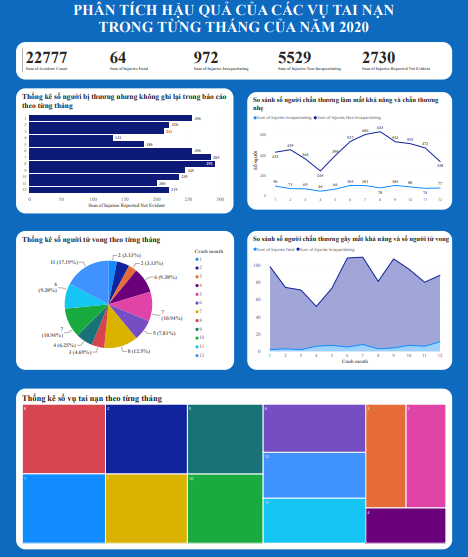

Layout of this report page (visuals, bound fields, positions):
{"tool":"powerbi","page":{"name":"Report 3","canvas":[1500,1800],"ordinal":2},"visuals":[{"type":"textbox","box":[156,0,1190,136],"z":0},{"type":"multiRowCard","fields":{"Values":["Sum(Query3.Accident Count)","Sum(Query3.Injuries Fatal)","Sum(Query3.Injuries Incapacitating)","Sum(Query3.Injuries Non Incapacitating)","Sum(Query3.Injuries Reported Not Evident)"]},"box":[56,136,1392,120],"z":1000},{"type":"barChart","title":"Thống kê số người bị thương nhưng không ghi lại trong báo cáo theo từng tháng","fields":{"Category":["Query3.Crash month"],"Y":["Sum(Query3.Injuries Reported Not Evident)"]},"box":[56,284,694,400],"z":2000},{"type":"lineChart","title":"So sánh số người chấn thương làm mất khả năng và chấn thương nhẹ","fields":{"Category":["Query3.Crash month"],"Y":["Sum(Query3.Injuries Incapacitating)","Sum(Query3.Injuries Non Incapacitating)"]},"box":[794,296,654,376],"z":3000},{"type":"pieChart","title":"Thống kê số người tử vong theo từng tháng","fields":{"Category":["Query3.Crash month"],"Y":["Sum(Query3.Injuries Fatal)"]},"box":[56,740,696,444],"z":4000},{"type":"treemap","title":"Thống kê số vụ tai nạn theo từng tháng","fields":{"Group":["Query3.Crash month"],"Values":["Sum(Query3.Accident Count)"]},"box":[56,1244,1392,514],"z":5000},{"type":"stackedAreaChart","title":"So sánh số người chấn thương gây mất khả năng và số người tử vong","fields":{"Category":["Query3.Crash month"],"Y":["Sum(Query3.Injuries Fatal)","Sum(Query3.Injuries Incapacitating)"]},"box":[794,740,654,444],"z":6000}]}

Visuals, with their boxes in screenshot pixels (x1, y1, x2, y2), scaled from the page's 1500x1800 canvas onto the 468x557 screenshot:
textbox: 49,0,420,42
multiRowCard - Sum(Query3.Accident Count) x Sum(Query3.Injuries Fatal): 17,42,452,79
"Thống kê số người bị thương nhưng không ghi lại trong báo cáo theo từng tháng" barChart: 17,88,234,212
"So sánh số người chấn thương làm mất khả năng và chấn thương nhẹ" lineChart: 248,92,452,208
"Thống kê số người tử vong theo từng tháng" pieChart: 17,229,235,366
"Thống kê số vụ tai nạn theo từng tháng" treemap: 17,385,452,544
"So sánh số người chấn thương gây mất khả năng và số người tử vong" stackedAreaChart: 248,229,452,366
